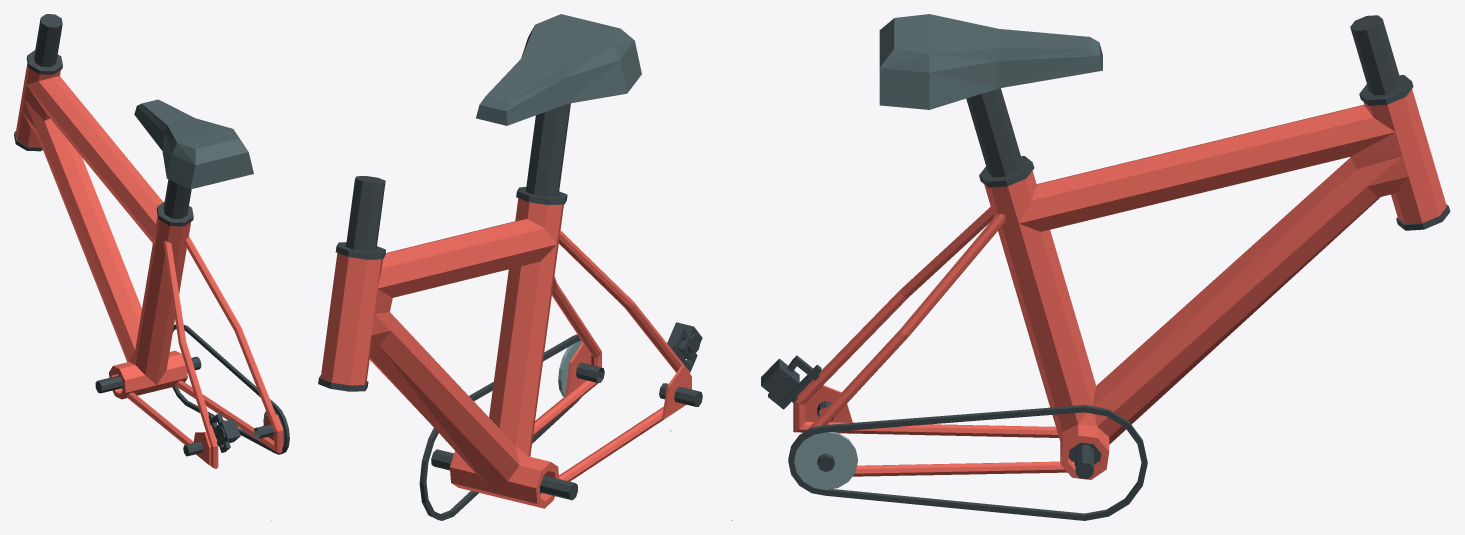
Rendered from body.fbx.
3 views of the same model, side by side, from view 1: azimuth 30°, elevation 25°; view 2: azimuth 150°, elevation 25°; view 3: azimuth 270°, elevation 25° (orthographic). The views are drawn at different scales.
Parts seen in each view (by area): view 1: 車體, 鍊條, 後煞車; view 2: 車體, 鍊條, 後煞車; view 3: 車體, 鍊條, 後煞車.
Boxes of the visible parts, box(x1,y1,x2,y2) form: 車體: box(14, 14, 284, 520); 鍊條: box(126, 324, 289, 454); 後煞車: box(208, 414, 240, 452); 車體: box(318, 14, 702, 508); 鍊條: box(419, 334, 663, 520); 後煞車: box(667, 322, 702, 372); 車體: box(731, 14, 1450, 520); 鍊條: box(788, 405, 1147, 520); 後煞車: box(761, 358, 817, 402).
Bounding box in the file's own units: 28.49 × 92.84 × 121.
